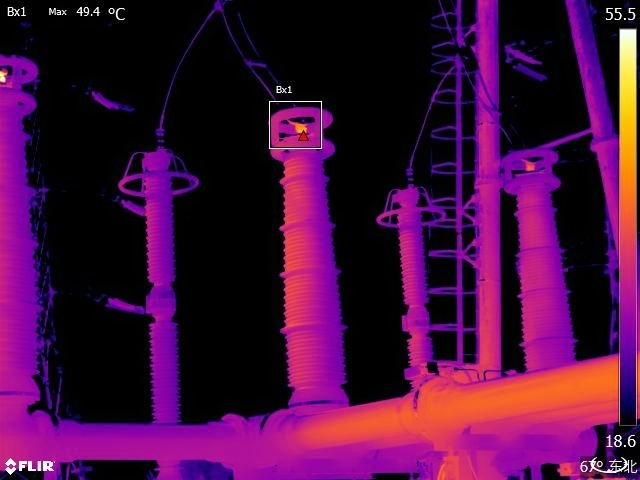lightning arrester: (116, 133, 212, 427), (374, 172, 447, 395)
tube: (260, 92, 365, 398), (501, 134, 581, 378), (1, 46, 48, 404)
